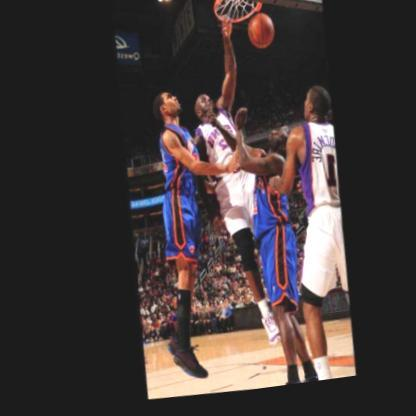basketball: (244, 17, 275, 57)
